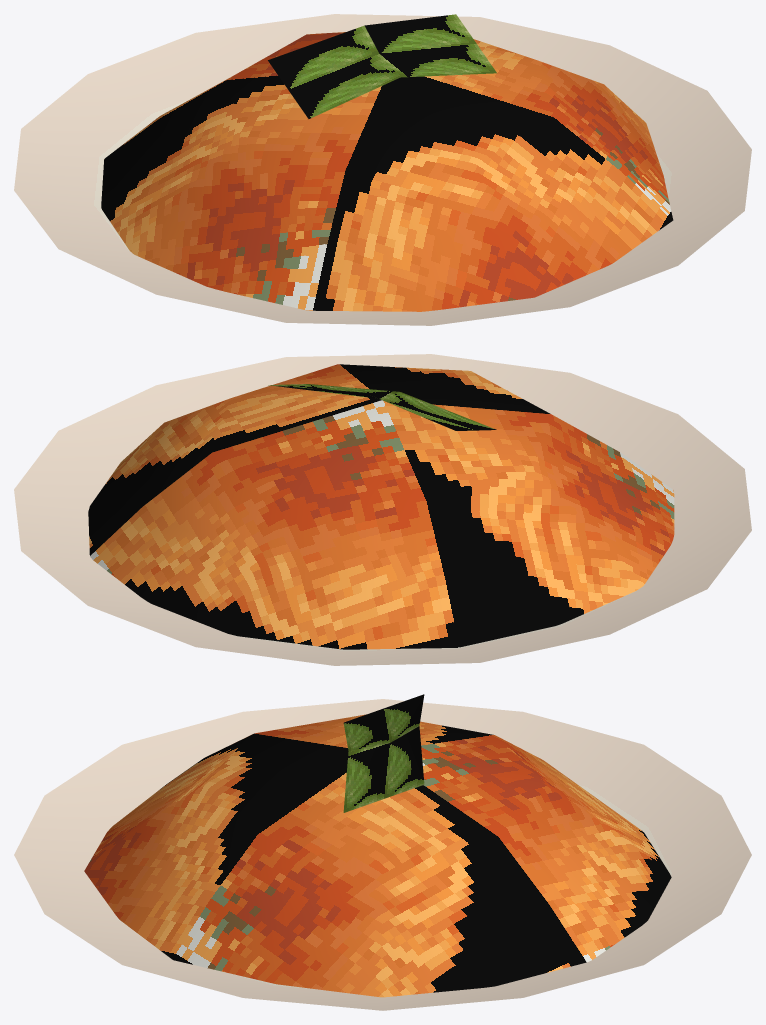
3 views of the same model, one above another, from view 1: azimuth 30°, elevation 25°; view 2: azimuth 150°, elevation 25°; view 3: azimuth 270°, elevation 25° (orthographic).
Visible parts, largest first — view 1: pasta_r; view 2: pasta_r; view 3: pasta_r.
Part boxes in pixels (x1=…): pasta_r: x1=14, y1=14, x2=751, y2=325; pasta_r: x1=14, y1=354, x2=751, y2=665; pasta_r: x1=14, y1=694, x2=751, y2=1010.
Bounding box in the file's own units: 0.8994 × 0.2891 × 0.8994.
3 materials, 3 textured.
